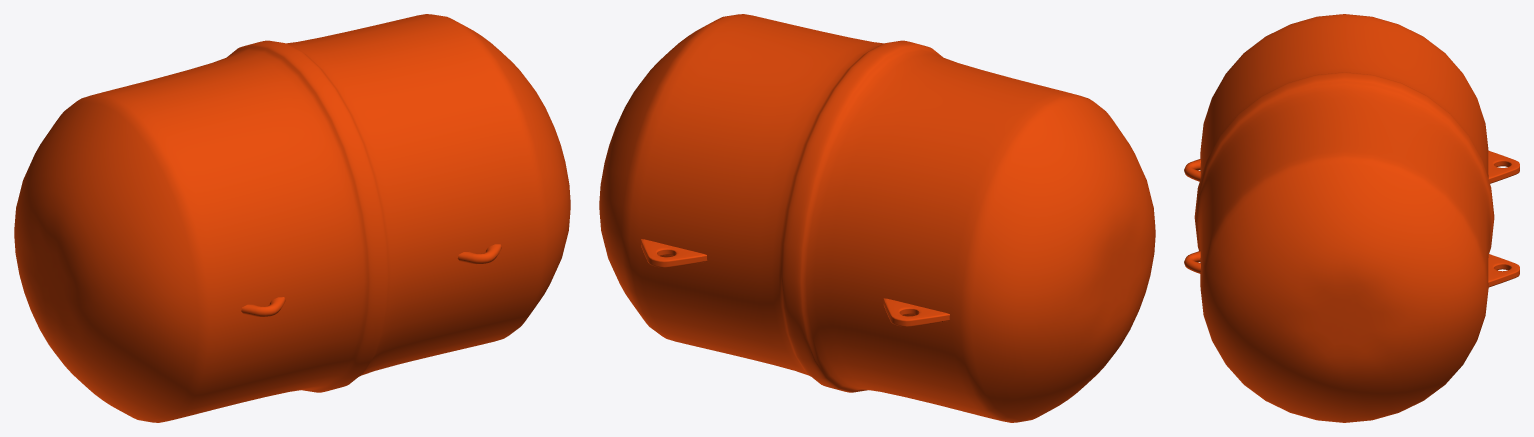
Rendered from qnvy2.fbx.
3 views of the same model, side by side, from view 1: azimuth 30°, elevation 25°; view 2: azimuth 150°, elevation 25°; view 3: azimuth 270°, elevation 25° (orthographic). The views are drawn at different scales.
Parts seen in each view (by area): view 1: pCylinder4; view 2: pCylinder4; view 3: pCylinder4.
Part boxes in pixels (x1,y1,x2,y2): pCylinder4: (14,14,570,422); pCylinder4: (599,14,1155,422); pCylinder4: (1184,14,1519,422).
Bounding box in the file's own units: 303 × 196 × 209.
